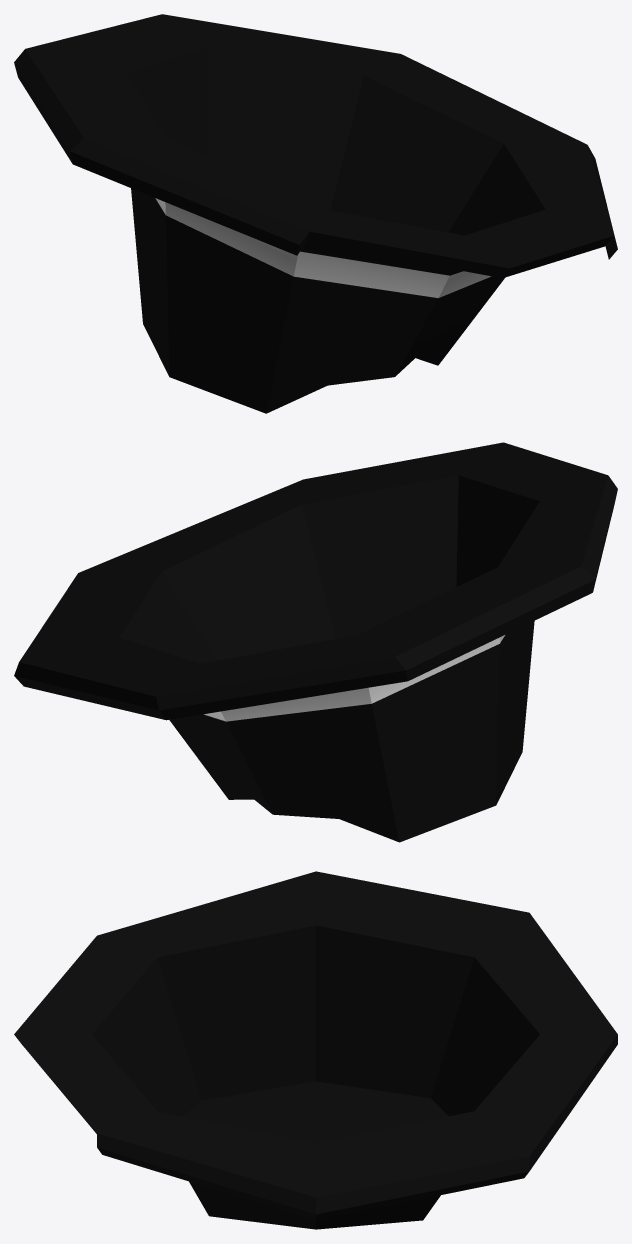
The model's file is Hat_001.fbx.
3 renders of one model, top to bottom at view 1: azimuth 30°, elevation 25°; view 2: azimuth 150°, elevation 25°; view 3: azimuth 270°, elevation 25°, orthographic. The views are drawn at different scales.
Parts seen in each view (by area): view 1: pCylinder2; view 2: pCylinder2; view 3: pCylinder2.
Boxes of the visible parts, box(x1,y1,x2,y2) form: pCylinder2: box(14, 14, 617, 413); pCylinder2: box(14, 442, 617, 842); pCylinder2: box(14, 871, 617, 1229).
Size of the model in its own units: 183 by 86.61 by 209.
